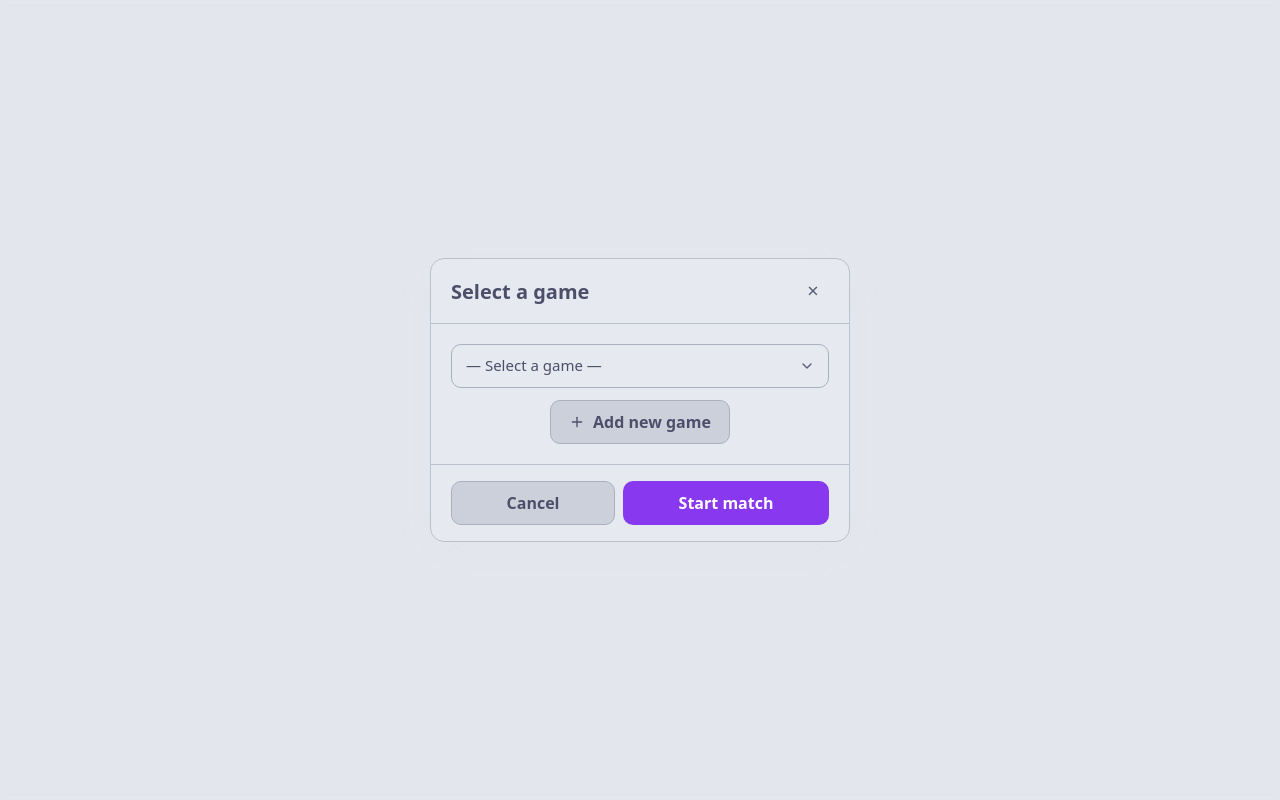
GameSelectModalContainer › keeps a bound game listed out of the module player range, with the launch button disabled and no generic fallback
Select "La Vallée des Torī" in the dropdown. click: (640, 366)
box: [451,344,829,388]
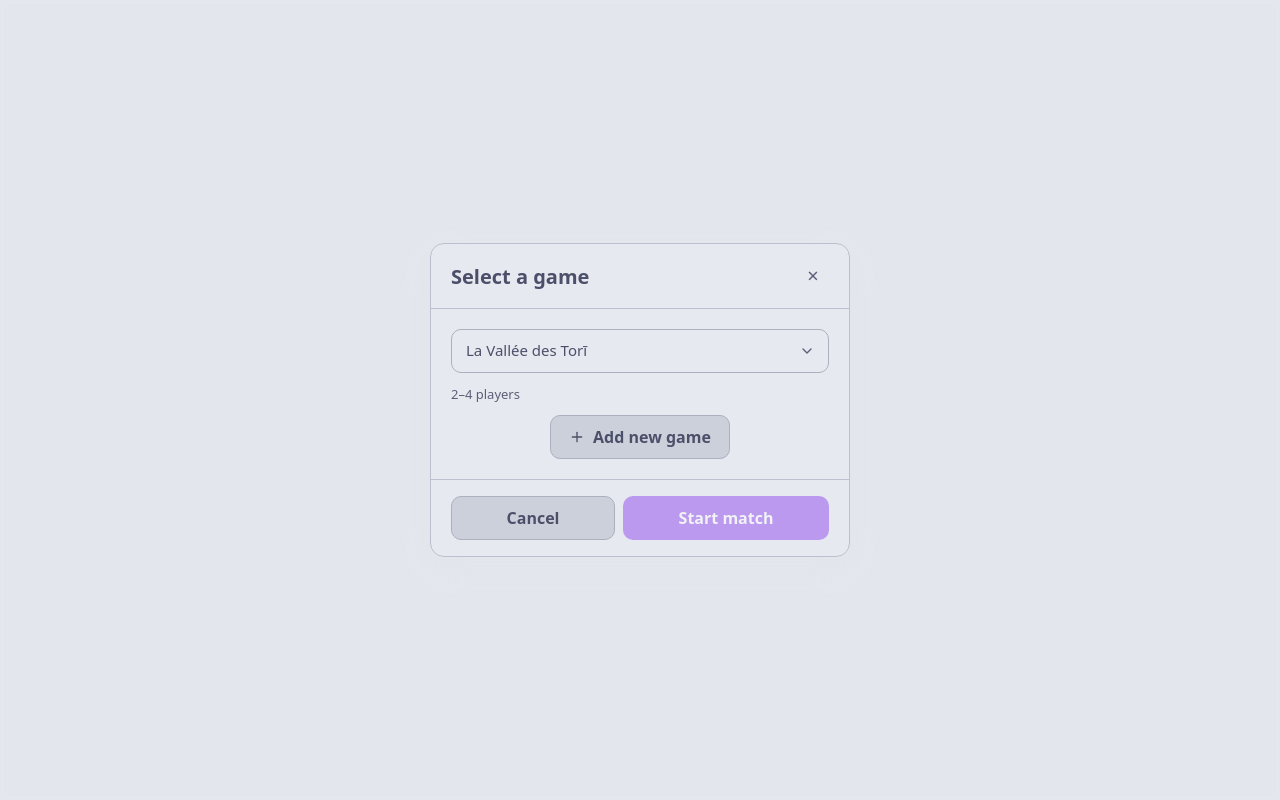
Result: the button "Start match" is disabled at [623,496,829,540]
Result: the text "2–4 players" is shown at [451,385,520,403]
